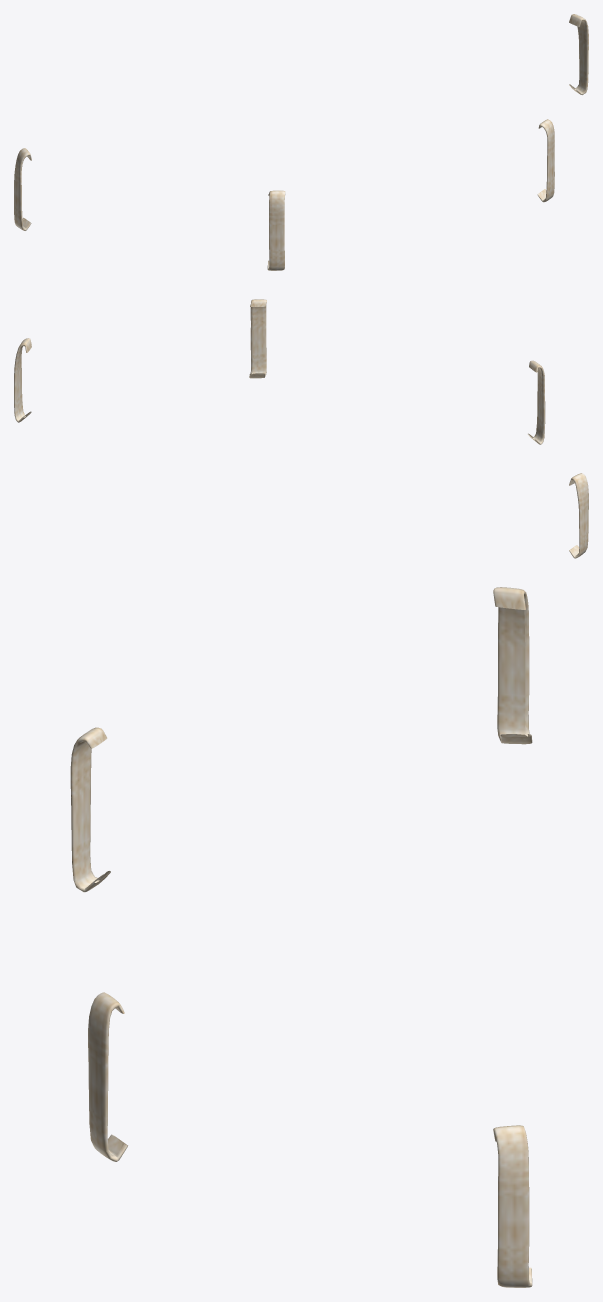
Rendered from 5cm_standard_button belt_huk.glb.
3 views of the same model, one above another, from view 1: azimuth 30°, elevation 25°; view 2: azimuth 150°, elevation 25°; view 3: azimuth 270°, elevation 25° (orthographic). The views are drawn at different scales.
Parts seen in each view (by area): view 1: standard_button belt_huk_5cm; view 2: standard_button belt_huk_5cm; view 3: standard_button belt_huk_5cm.
Part boxes in pixels (<box>): standard_button belt_huk_5cm: <box>14,14,588,270</box>; standard_button belt_huk_5cm: <box>14,299,588,558</box>; standard_button belt_huk_5cm: <box>70,587,532,1287</box>.
Bounding box in the file's own units: 0.0478 × 0.00635 × 0.0168.
Materials: 1 (1 with a texture image).
